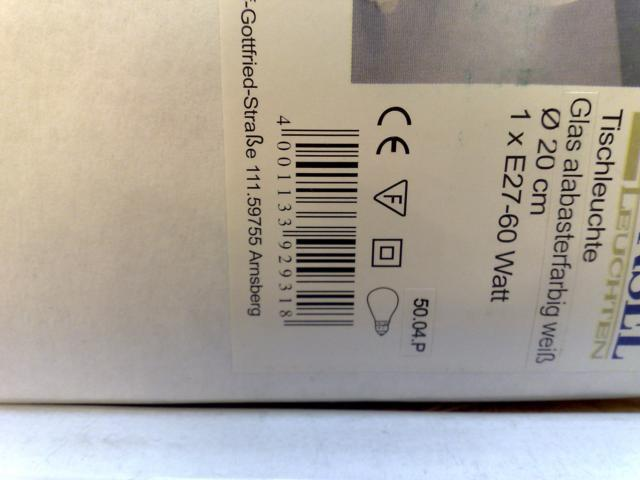Barcode: (268, 97, 366, 346)
